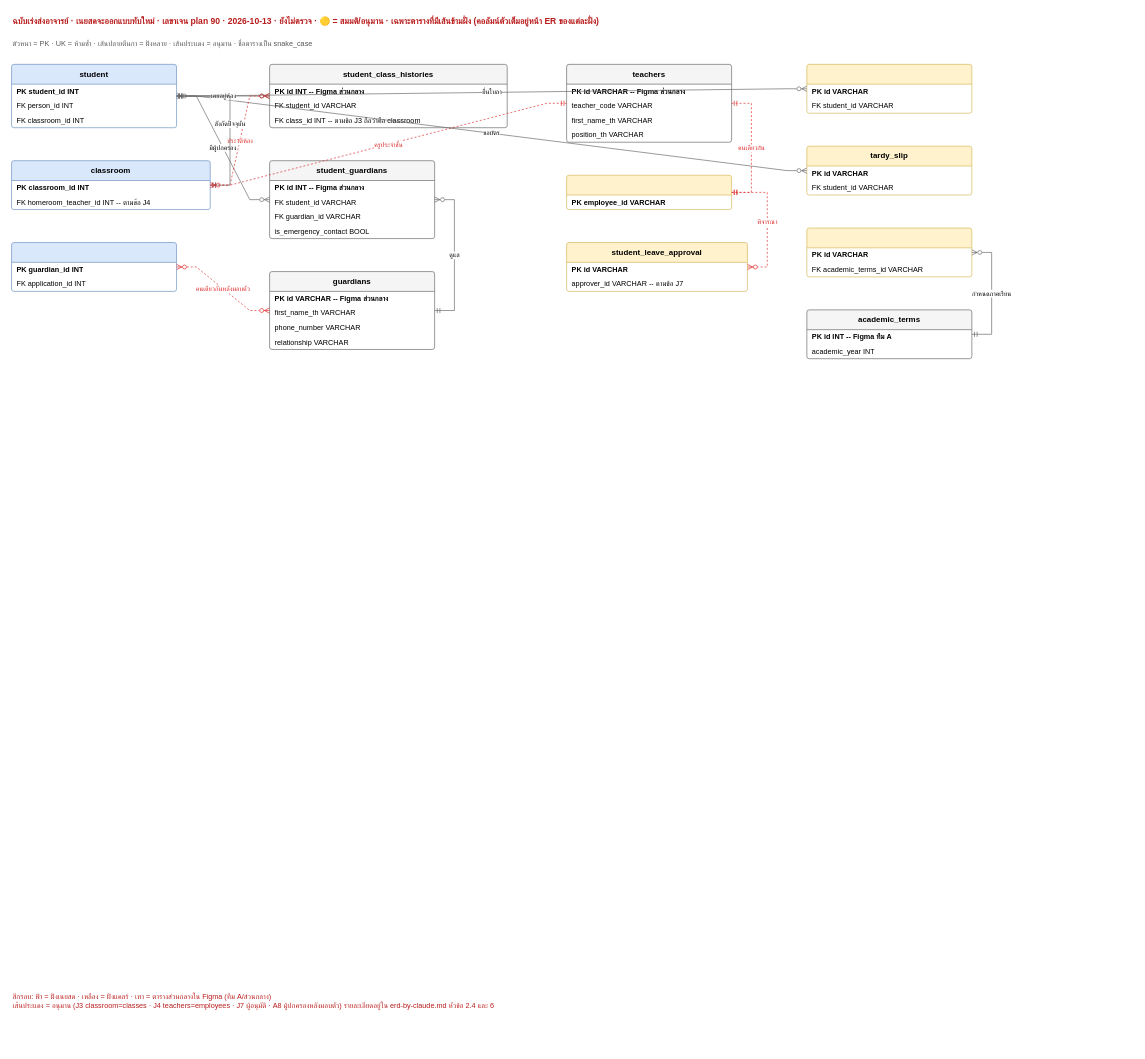
The diagram is 1145 pixels wide and 1059 high, and some of its shapes have lost their labels. The box of each missing label's shape, as (x1, y1, x2, y2) in pixels:
applicant_guardian: (11, 242, 177, 291)
employees: (566, 175, 732, 210)
student_leave_form: (806, 64, 972, 113)
student_leave_setting_type: (806, 227, 972, 277)
